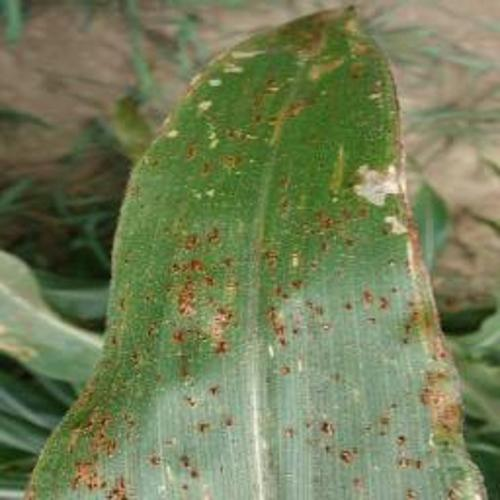Corn: (29, 7, 486, 500)
